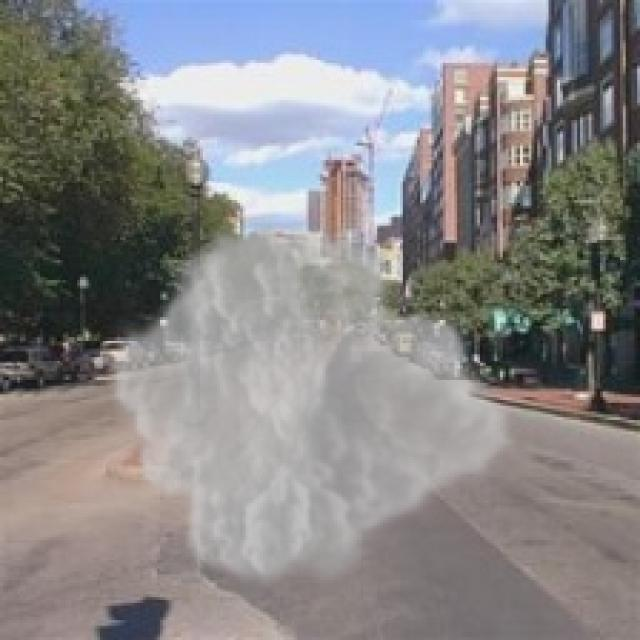smoke: (106, 215, 520, 594)
